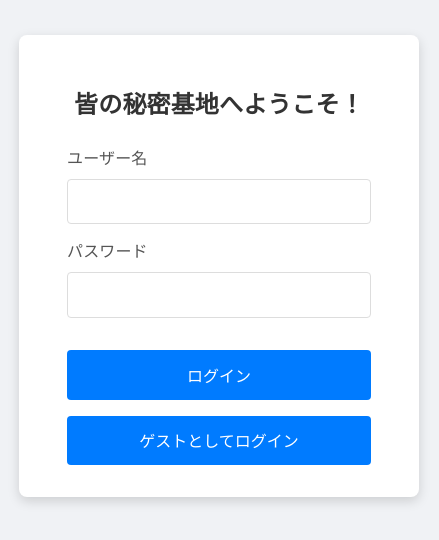
Scenario: Login Component › Failure Cases › should display default error message when API returns no specific error
The image size is (439, 540).
// Fill in username and password
Type "testuser" into the field labelled "ユーザー名".
click(219, 202); type("testuser")  # box [67,179,371,224]
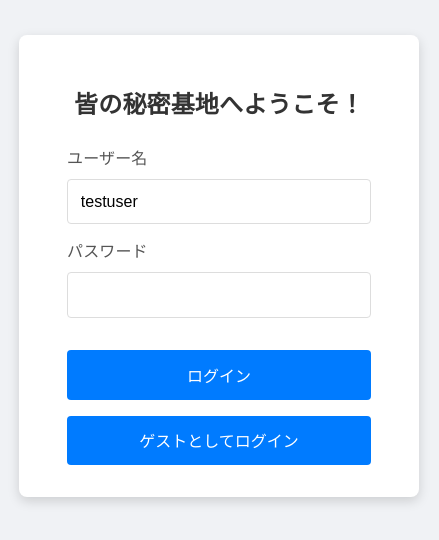
Type "password123" into the password field labelled "パスワード".
click(219, 295); type("password123")  # box [67,272,371,318]
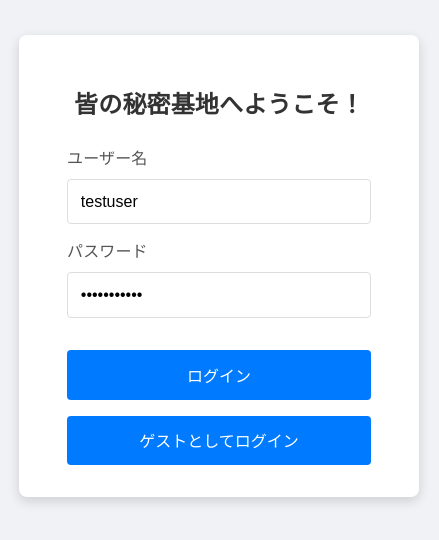
// Click login button
Click the button "ログイン".
click(219, 375)  # box [67,350,371,400]
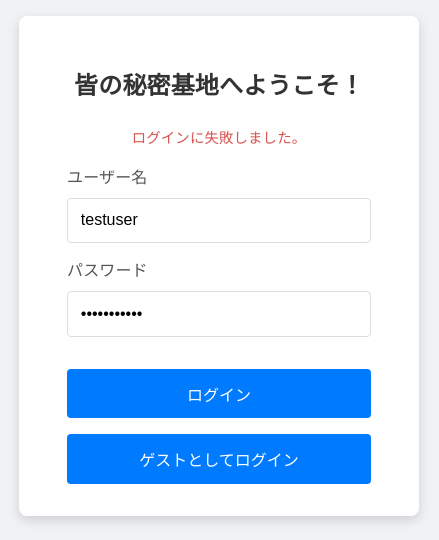
Now the text "ログインに失敗しました。" is shown, box [132,130,306,146]
